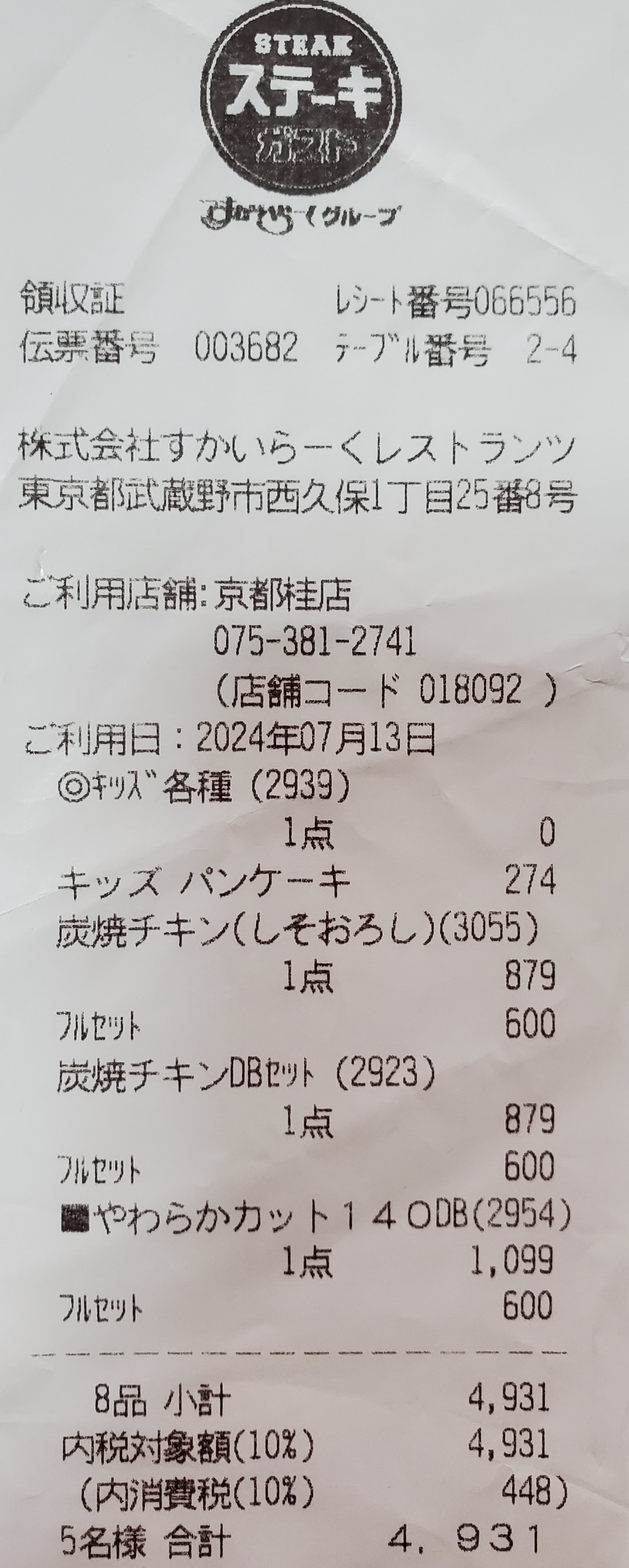Date: (196, 721, 452, 764)
Shopname: (144, 7, 443, 196)
Telnum: (207, 615, 426, 667)
Totalpay: (151, 1515, 577, 1568)
